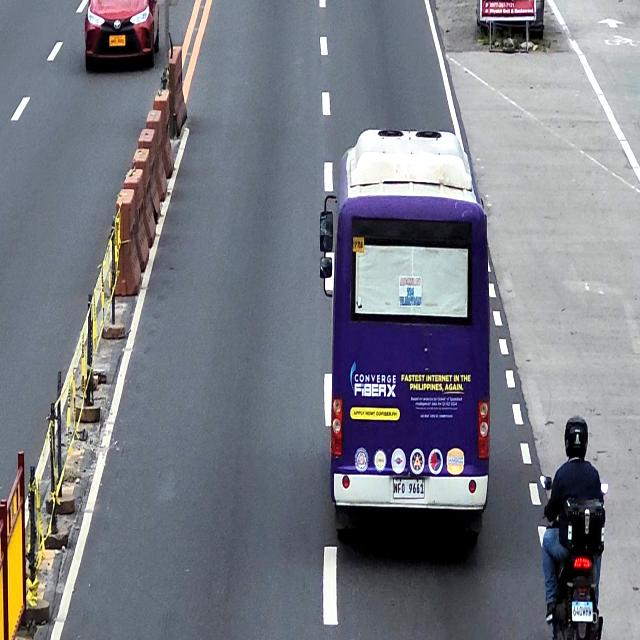Bus: (319, 129, 492, 550)
License-Plate: (393, 480, 425, 497), (572, 601, 594, 621)
Motorcycle: (540, 471, 609, 640)
